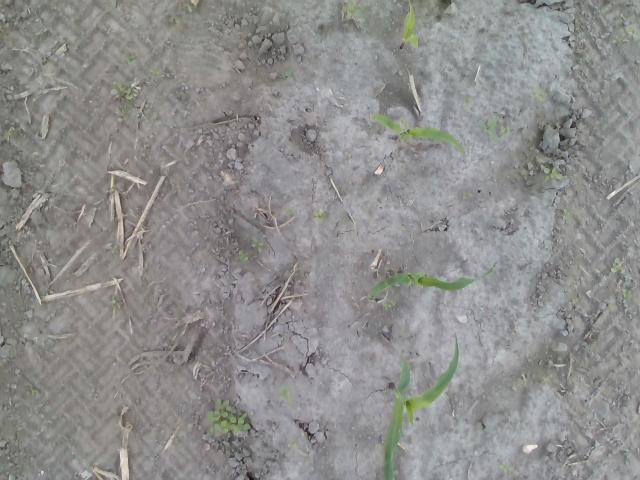Maize: (381, 330, 461, 480), (368, 262, 497, 300), (368, 113, 465, 155), (399, 0, 419, 50)
Weeds: (206, 396, 251, 436), (110, 82, 133, 101), (478, 118, 498, 138), (342, 0, 361, 20), (276, 386, 294, 404), (542, 167, 562, 181), (531, 86, 546, 102), (250, 237, 264, 253), (115, 105, 132, 117), (122, 52, 136, 66), (624, 26, 640, 38), (610, 257, 622, 273), (312, 210, 326, 222), (4, 127, 15, 141), (29, 382, 40, 396), (612, 31, 624, 43), (182, 2, 194, 13), (562, 208, 572, 221), (107, 300, 123, 308), (498, 464, 514, 472), (501, 127, 512, 138), (288, 439, 298, 451), (620, 288, 632, 298), (238, 250, 250, 260), (382, 300, 396, 308), (280, 70, 292, 79), (35, 29, 47, 36), (282, 208, 296, 214), (463, 96, 473, 104), (109, 245, 118, 253), (150, 66, 160, 73), (462, 192, 472, 199), (428, 0, 435, 5), (572, 299, 578, 304)
